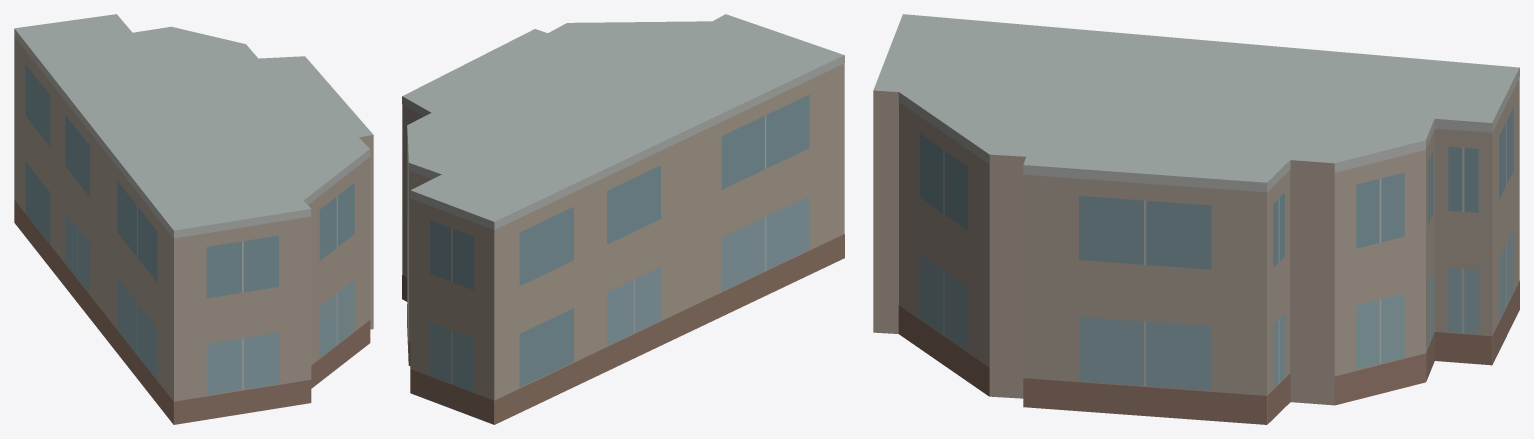
Rendered from survey-upis-32705891.glb.
3 renders of one model, left to right at view 1: azimuth 30°, elevation 25°; view 2: azimuth 150°, elevation 25°; view 3: azimuth 270°, elevation 25°, orthographic. The views are drawn at different scales.
Parts seen in each view (by area): view 1: survey-upis-32705891.tmp; view 2: survey-upis-32705891.tmp; view 3: survey-upis-32705891.tmp.
Boxes of the visible parts, left/top/right/bottom form: survey-upis-32705891.tmp: left=14, top=14, right=373, bottom=424; survey-upis-32705891.tmp: left=402, top=14, right=844, bottom=424; survey-upis-32705891.tmp: left=873, top=14, right=1519, bottom=424.
Bounding box in the file's own units: 9.13 × 6.1 × 14.77.
